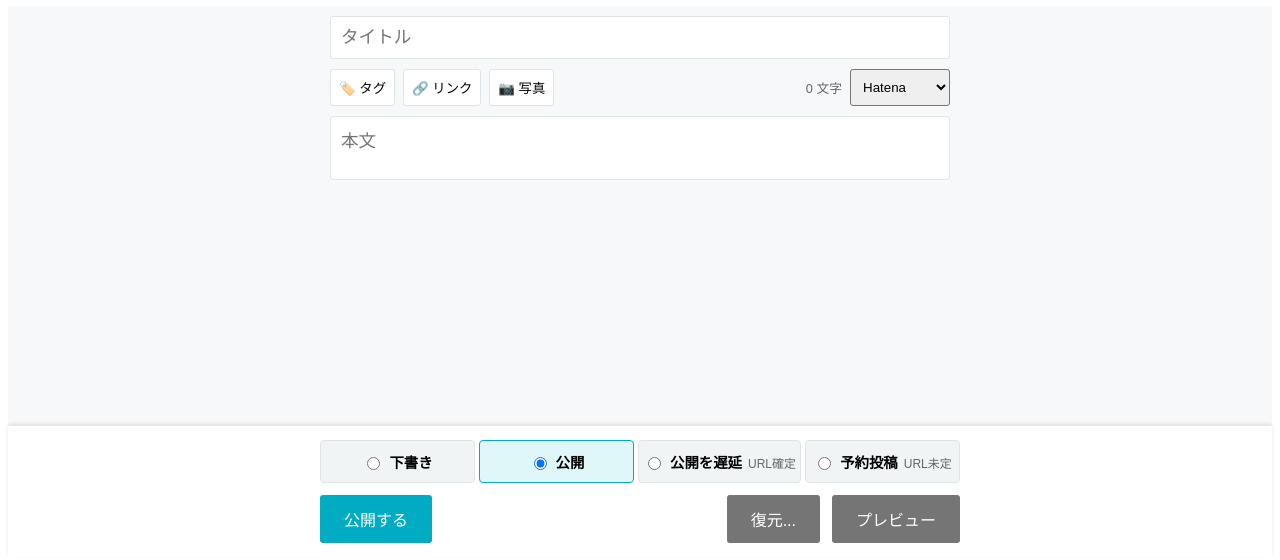
Test case: AppEditor › 本文の入力に応じて文字数が正しく表示されること
Expected: the text "0 文字" is shown, [806, 78, 842, 97]
In the text box with placeholder "本文": (640, 148) [330, 116, 950, 180], type "Hello"
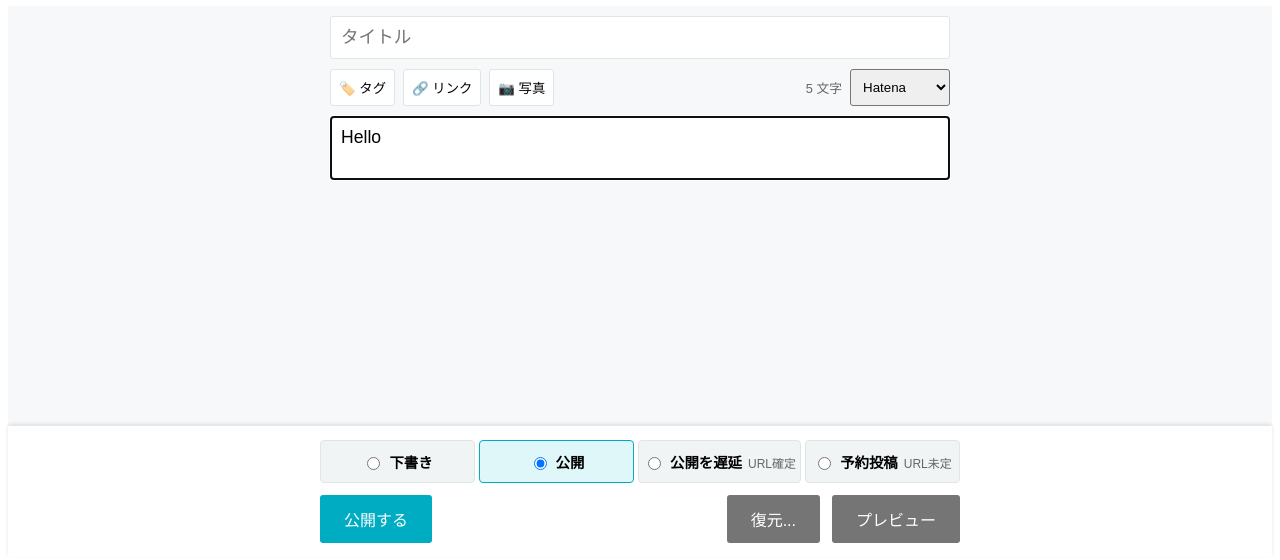
Now the text "5 文字" is shown, box [806, 78, 842, 97]
In the text box with placeholder "本文": (640, 148) [330, 116, 950, 180], type " 世界"
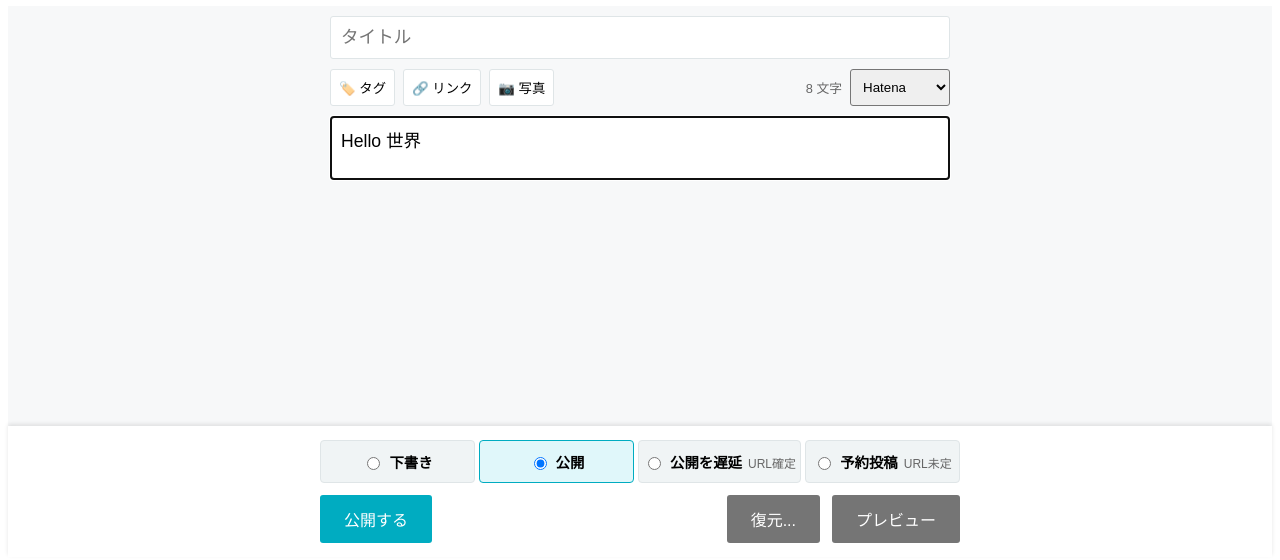
Now the text "8 文字" is shown, box [806, 78, 842, 97]
Clear the text box with placeholder "本文": (640, 148) [330, 116, 950, 180]
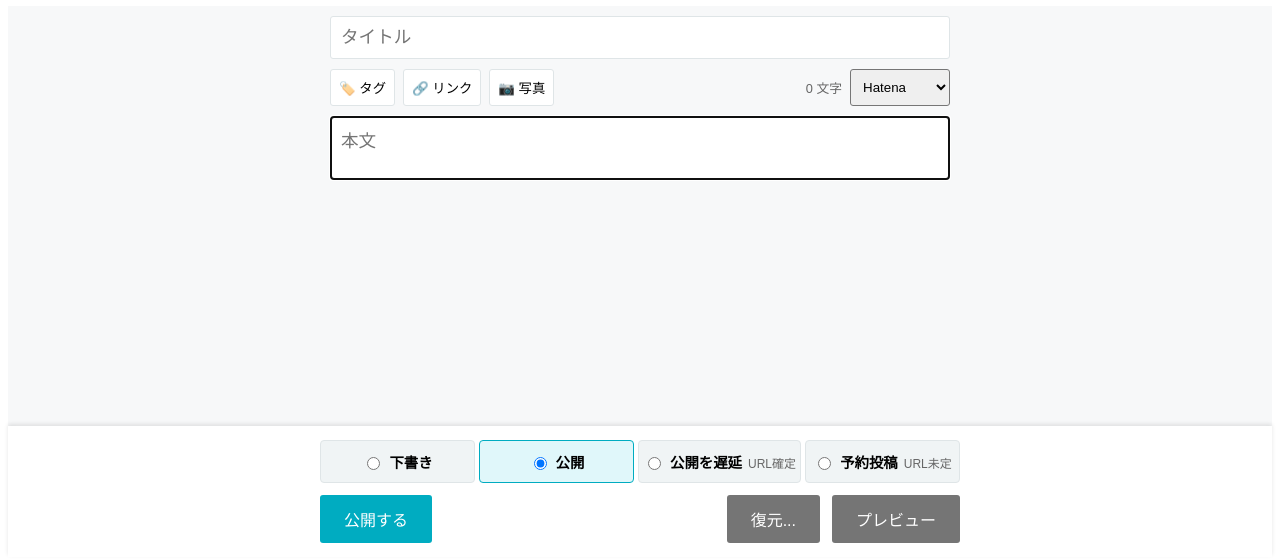
Now the text "0 文字" is shown, box [806, 78, 842, 97]
